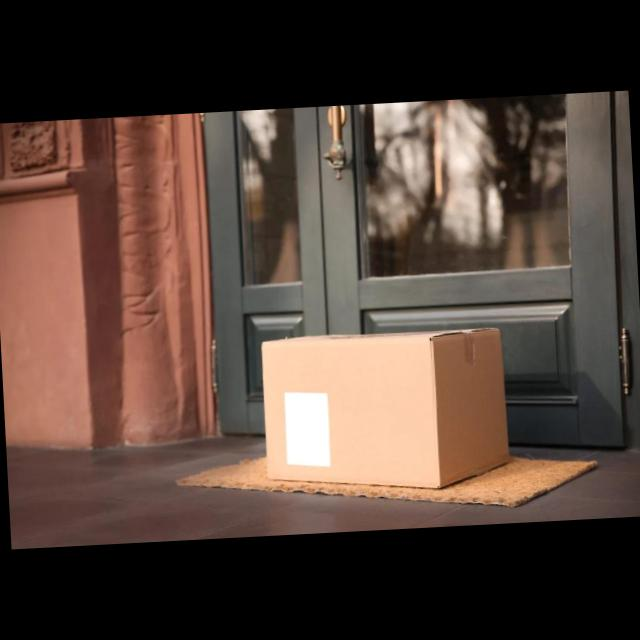box: (260, 326, 518, 502)
